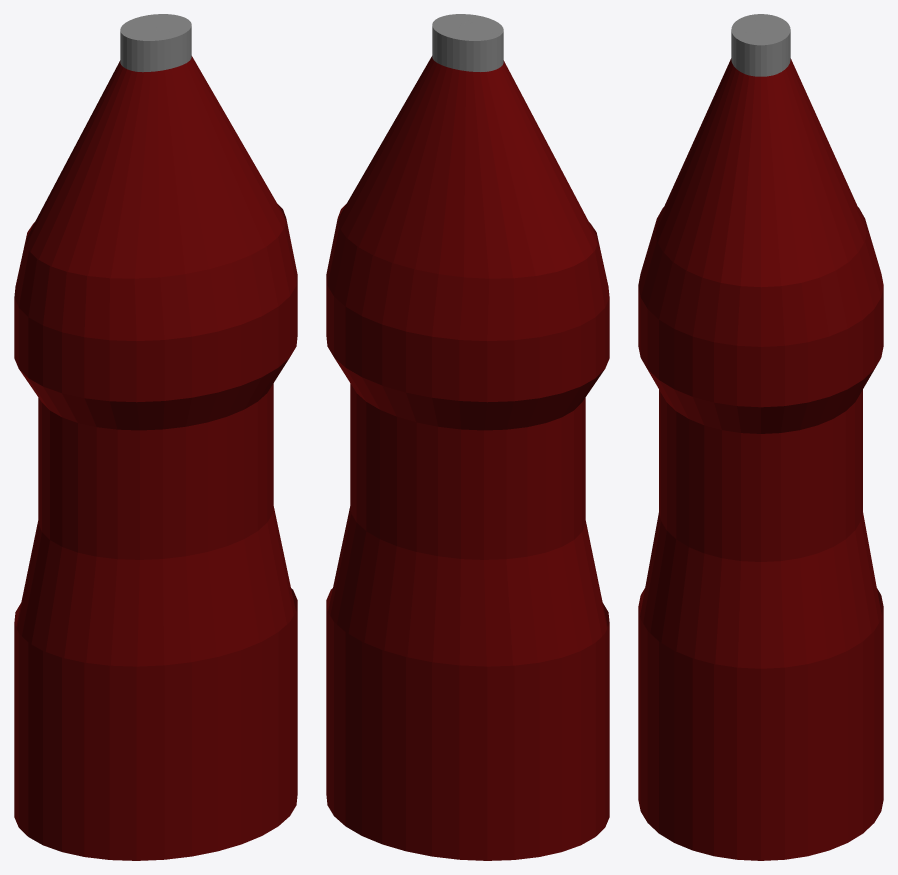
The model's file is Garrafa2.fbx.
The picture shows the model from 3 angles, left to right: view 1: azimuth 30°, elevation 25°; view 2: azimuth 150°, elevation 25°; view 3: azimuth 270°, elevation 25°; orthographic projection.
Parts seen in each view (by area): view 1: Cylinder.003, Cylinder.001; view 2: Cylinder.003, Cylinder.001; view 3: Cylinder.003, Cylinder.001.
Part boxes in pixels (bbox=[...]): Cylinder.003: bbox=[14, 56, 297, 860]; Cylinder.001: bbox=[120, 14, 191, 72]; Cylinder.003: bbox=[326, 56, 609, 860]; Cylinder.001: bbox=[432, 14, 503, 71]; Cylinder.003: bbox=[638, 58, 883, 860]; Cylinder.001: bbox=[731, 14, 790, 76].
Bounding box in the file's own units: 44.27 × 129 × 37.3.
3 materials, 1 textured.
